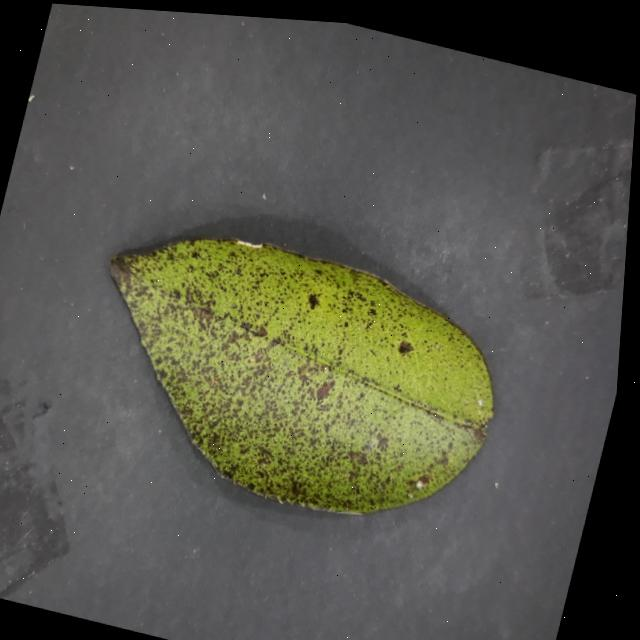greasy_spot: (110, 239, 493, 514)
